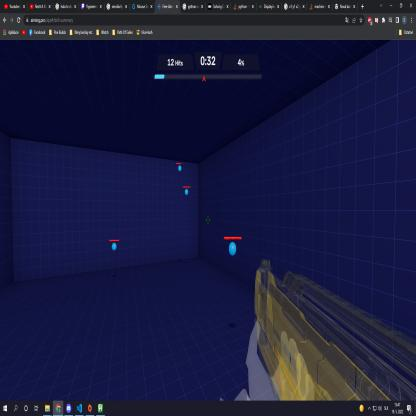sphere: (229, 241, 237, 257), (177, 165, 183, 172), (112, 241, 116, 251), (184, 188, 188, 196)
